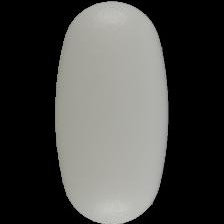17856-0021: (0, 0, 224, 224)
